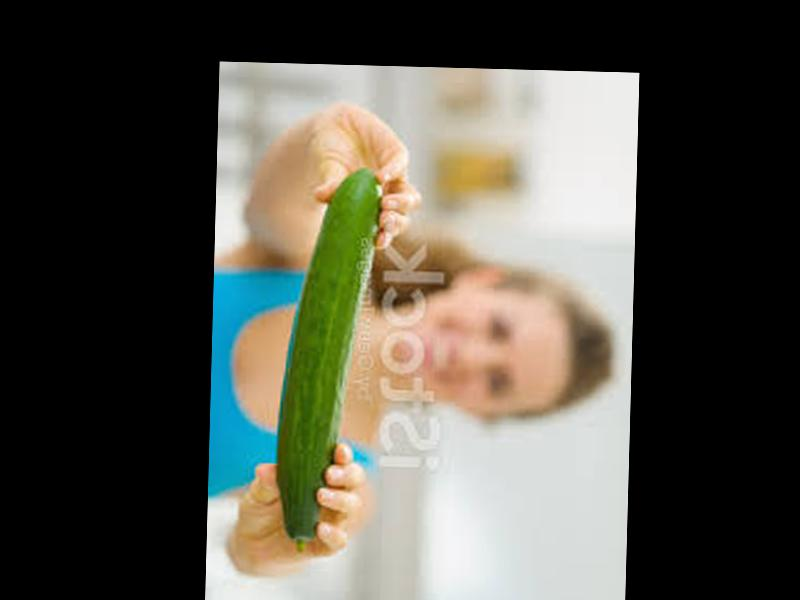Cucumber: (273, 165, 378, 552)
